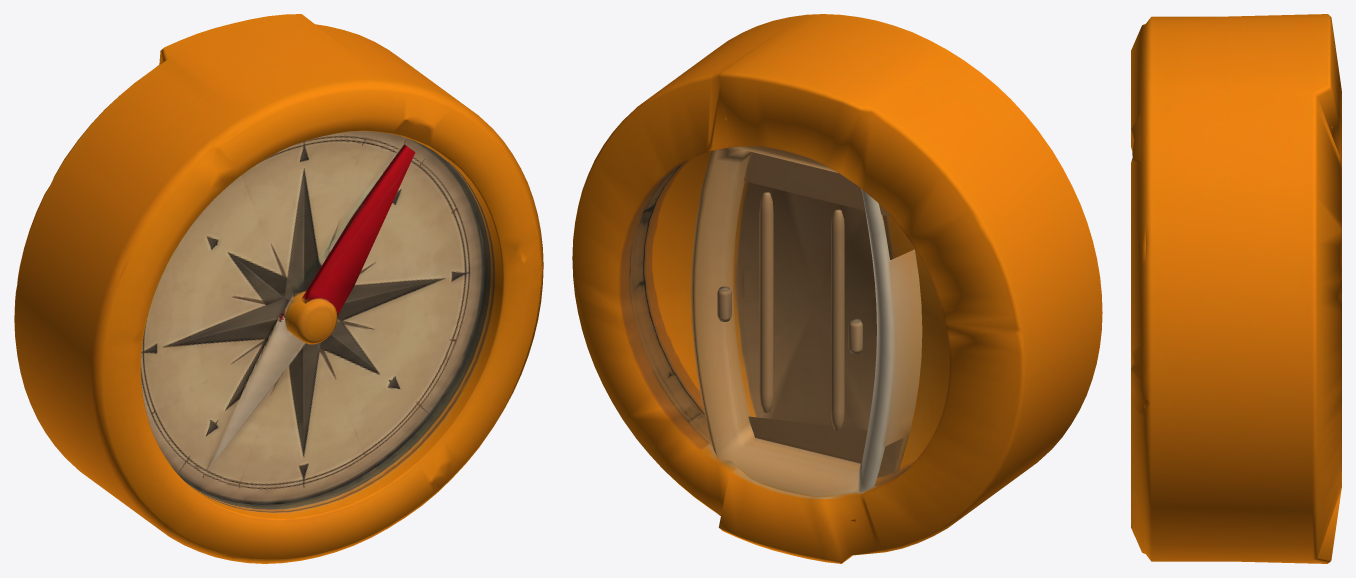
The model's file is compass.glb.
3 renders of one model, left to right at view 1: azimuth 30°, elevation 25°; view 2: azimuth 150°, elevation 25°; view 3: azimuth 270°, elevation 25°, orthographic. The views are drawn at different scales.
Visible parts, largest first — view 1: tripo_node_7268ea16-9f30-41e4-a862-fb366fae308e; view 2: tripo_node_7268ea16-9f30-41e4-a862-fb366fae308e; view 3: tripo_node_7268ea16-9f30-41e4-a862-fb366fae308e.
Part boxes in pixels (<box>): tripo_node_7268ea16-9f30-41e4-a862-fb366fae308e: <box>14,14,543,563</box>; tripo_node_7268ea16-9f30-41e4-a862-fb366fae308e: <box>572,14,1102,563</box>; tripo_node_7268ea16-9f30-41e4-a862-fb366fae308e: <box>1131,14,1341,563</box>.
Bounding box in the file's own units: 0.9995 × 0.9985 × 0.3853.
Materials: 1 (1 with a texture image).
